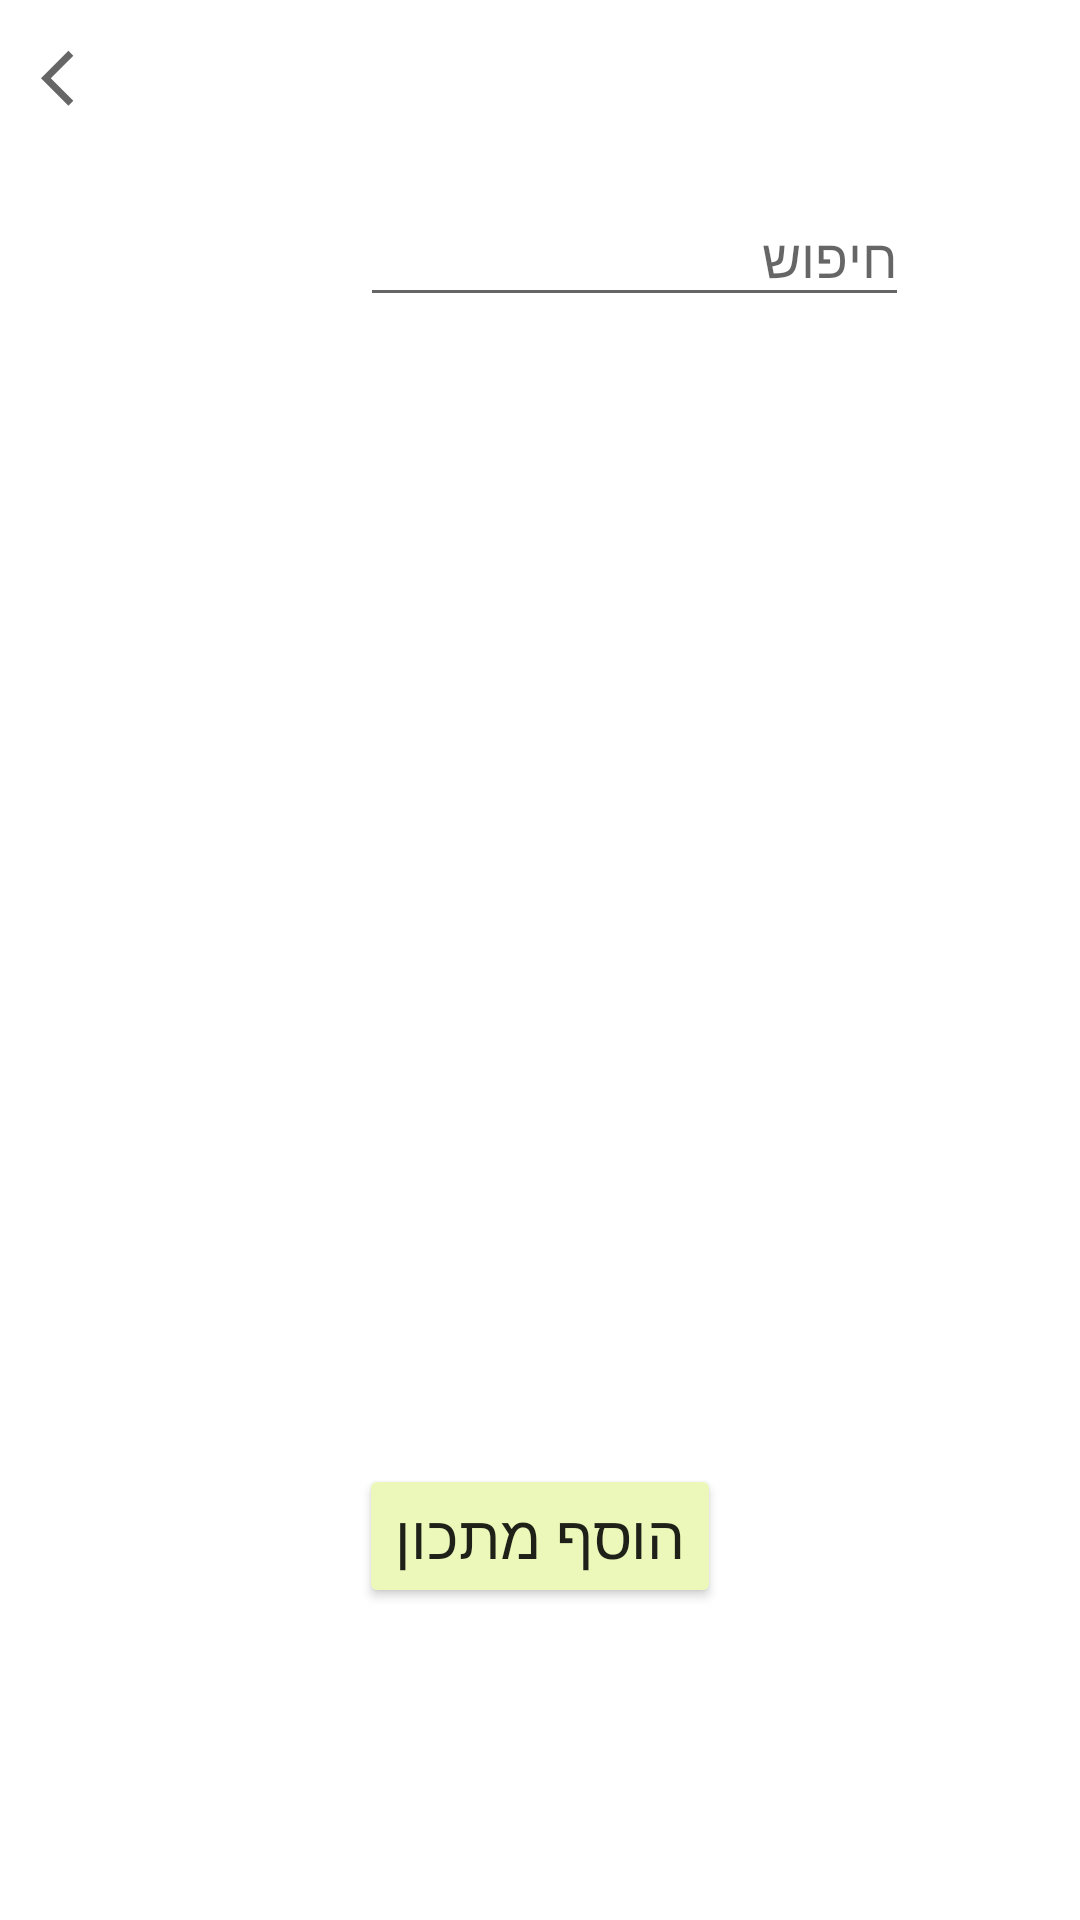

Icon bounding boxes for this 1080×1920 phone screenshot, format (x1, y1, x2, y2):
arrow back: (41, 51, 73, 106)
